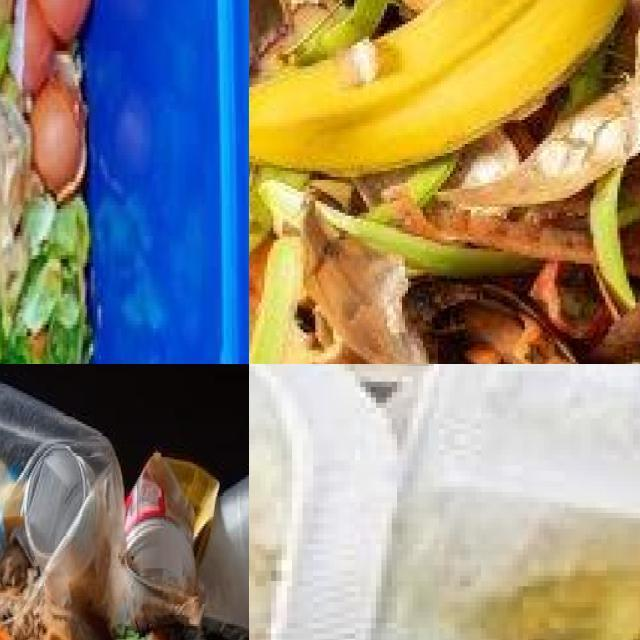Disposable: (372, 364, 640, 640), (249, 364, 397, 640)
Garbage: (249, 0, 640, 364), (249, 364, 640, 640), (249, 0, 626, 175), (0, 383, 249, 640)
Plastic_Bag: (0, 385, 122, 618)
Plastic_Container: (126, 455, 220, 595), (198, 472, 249, 630)
